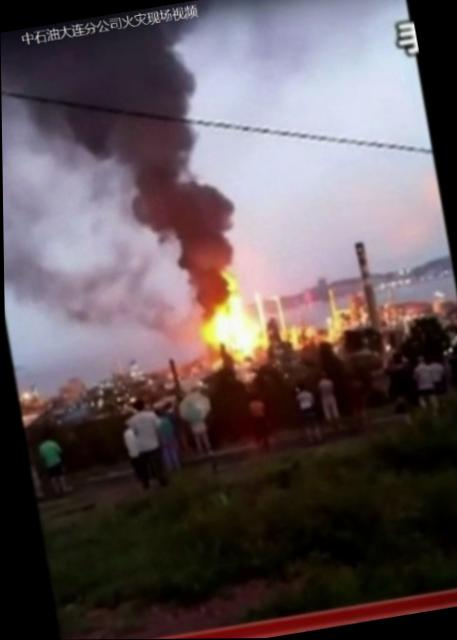fire: (200, 298, 259, 363)
